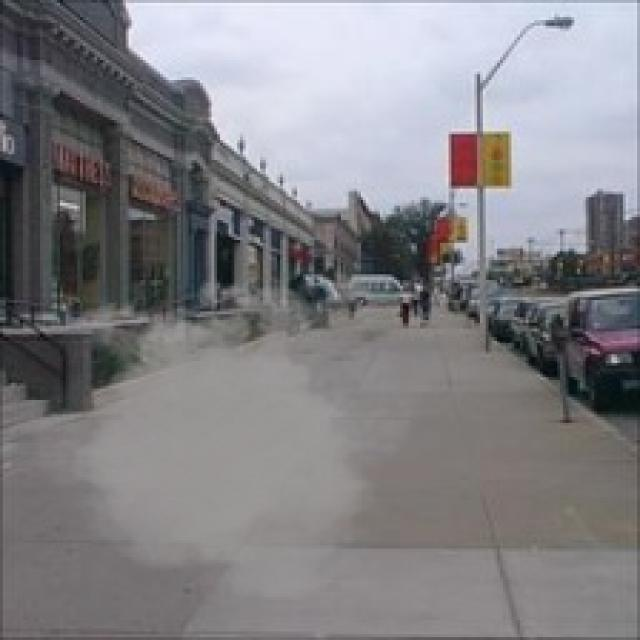smoke: (14, 260, 434, 606)
